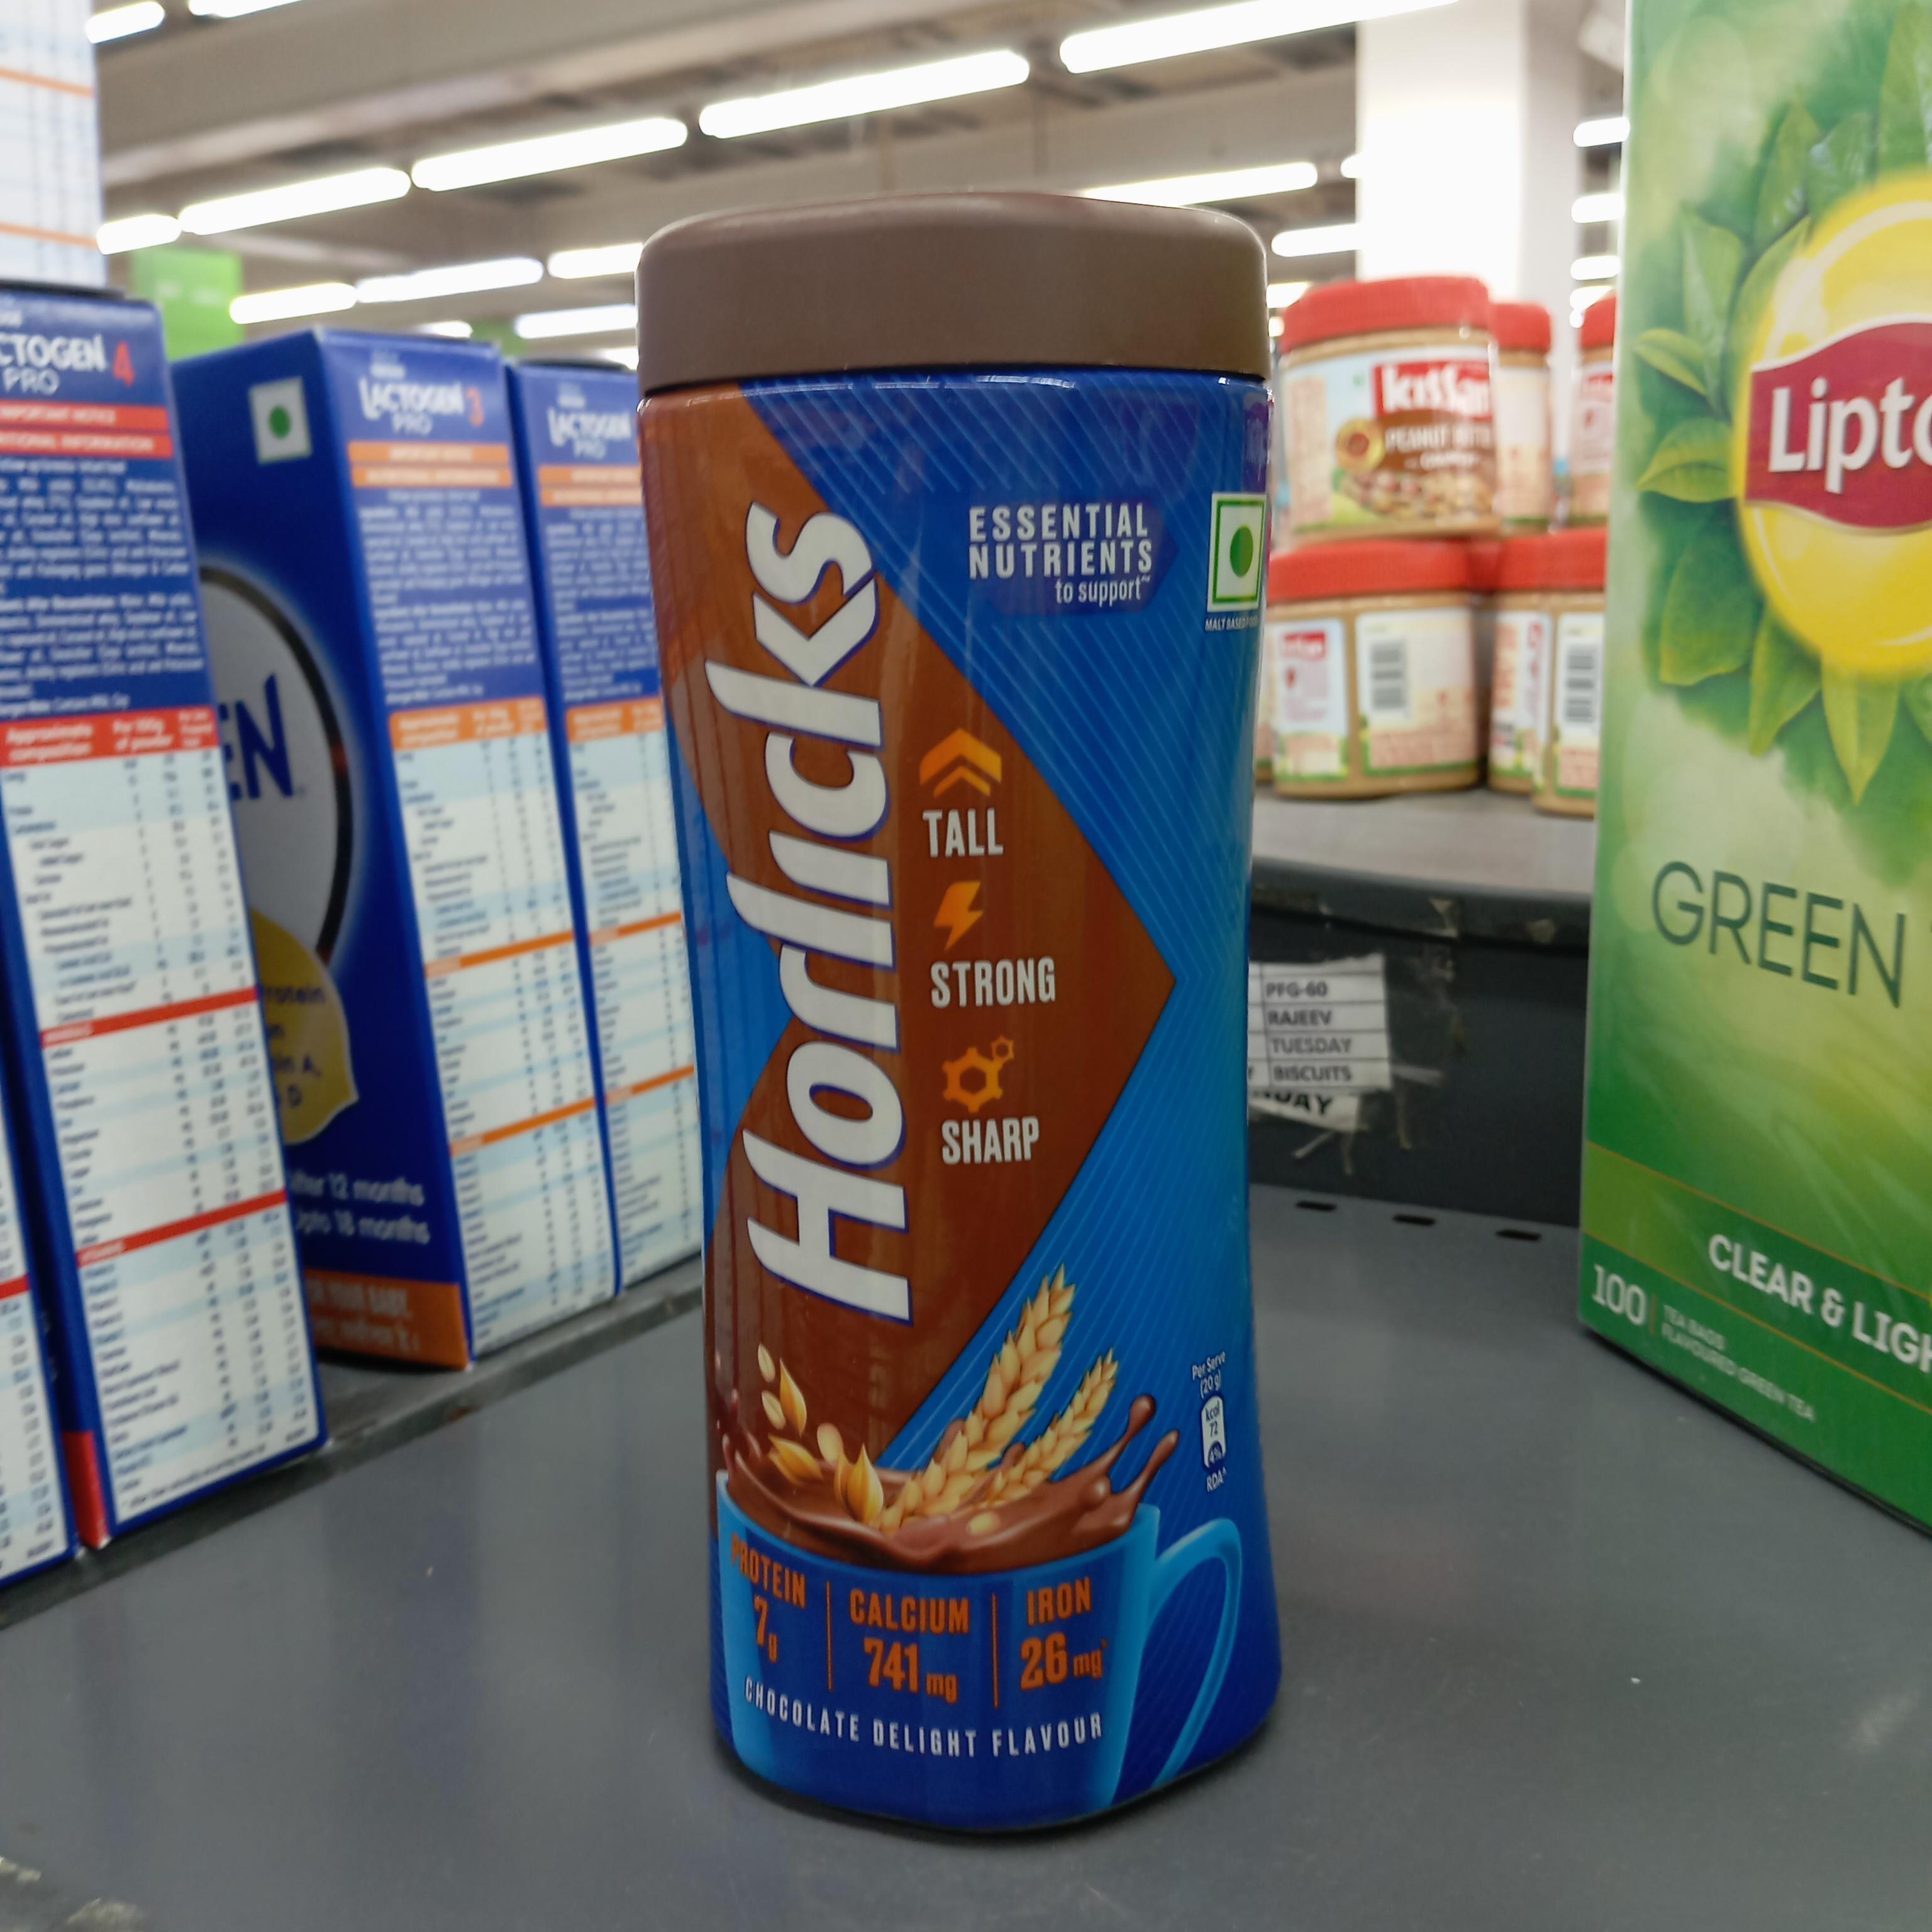HORLICK_CHOCOLATE_500_G_JAR: (671, 186, 1279, 1806)
